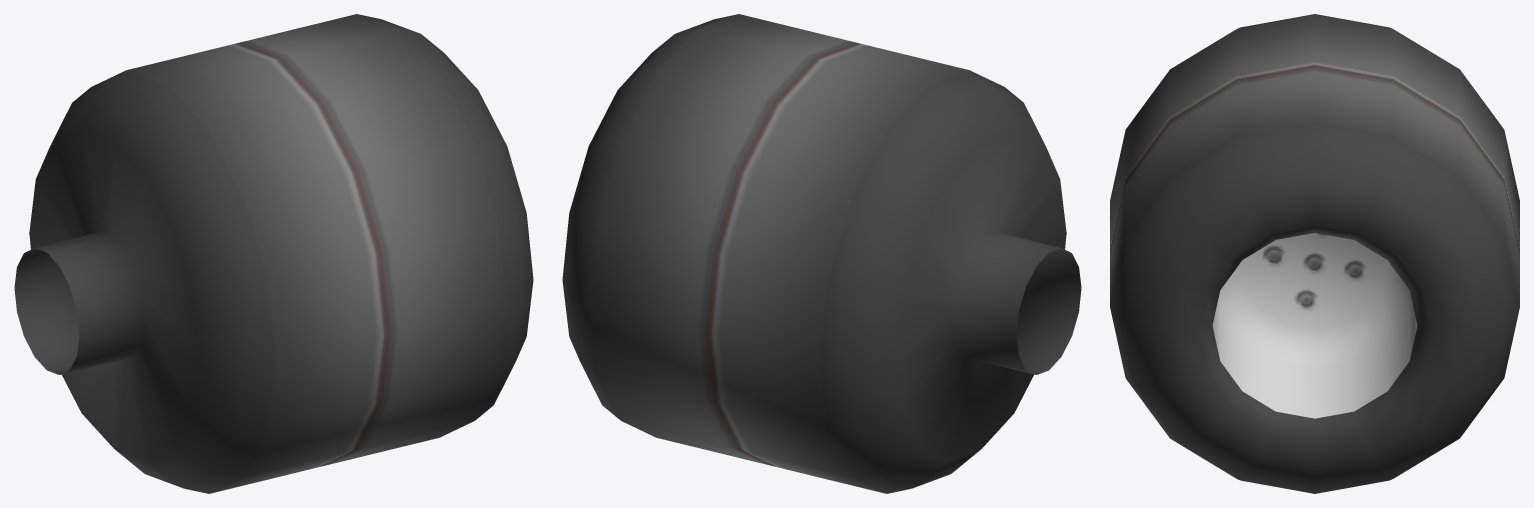
File: rear-right.glb
3 views of the same model, side by side, from view 1: azimuth 30°, elevation 25°; view 2: azimuth 150°, elevation 25°; view 3: azimuth 270°, elevation 25° (orthographic). The views are drawn at different scales.
Size of the model in its own units: 0.302 by 0.28 by 0.28.
Materials: 1 (1 with a texture image).
